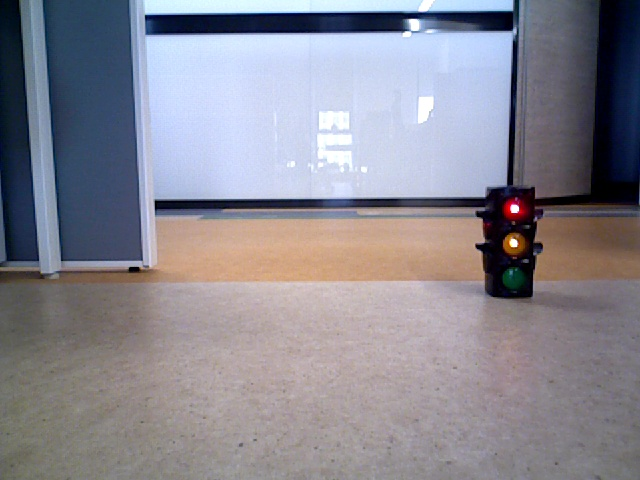red: (486, 191, 532, 293)
